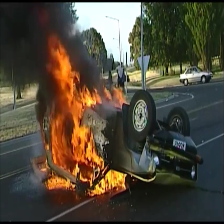fire_h: (47, 31, 107, 186), (85, 168, 127, 195), (45, 172, 76, 190)
fire_l: (112, 85, 129, 107), (103, 86, 112, 104), (41, 160, 51, 171), (44, 142, 49, 150)
